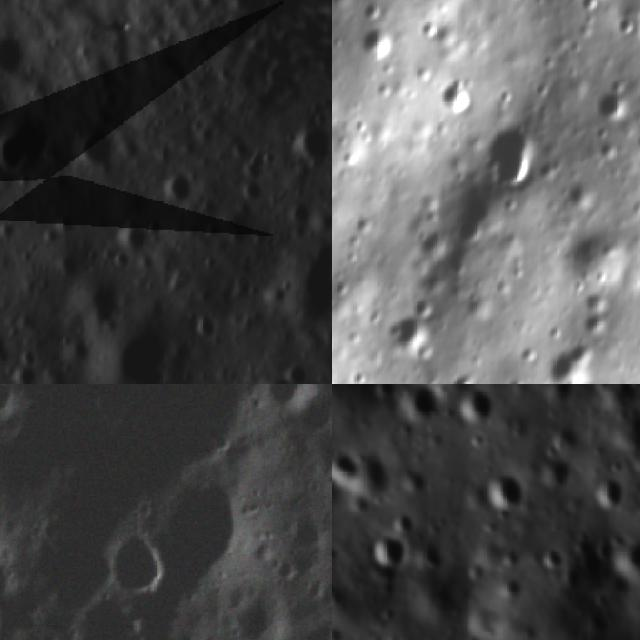crater: (242, 225, 332, 349), (70, 303, 202, 384), (475, 110, 552, 202), (428, 177, 508, 257), (108, 515, 176, 600), (0, 106, 59, 191), (64, 118, 130, 186), (65, 271, 133, 336), (226, 578, 290, 640), (73, 589, 147, 640), (100, 207, 163, 266), (384, 299, 438, 364), (344, 11, 402, 69), (282, 113, 332, 175), (532, 335, 594, 384), (153, 162, 208, 216), (579, 76, 636, 128), (0, 16, 39, 90), (211, 201, 265, 254), (421, 72, 472, 121), (188, 304, 230, 350), (262, 384, 325, 414), (88, 81, 130, 123), (276, 194, 316, 234), (368, 532, 410, 569), (288, 510, 326, 550), (462, 385, 499, 423), (485, 473, 522, 510), (535, 547, 575, 579), (0, 314, 20, 374), (613, 540, 640, 583), (536, 449, 568, 483), (296, 610, 332, 640), (312, 426, 332, 480), (0, 384, 29, 420), (332, 452, 362, 484), (412, 388, 438, 421), (438, 365, 482, 384), (594, 482, 632, 504), (246, 371, 303, 384), (372, 384, 403, 400)
